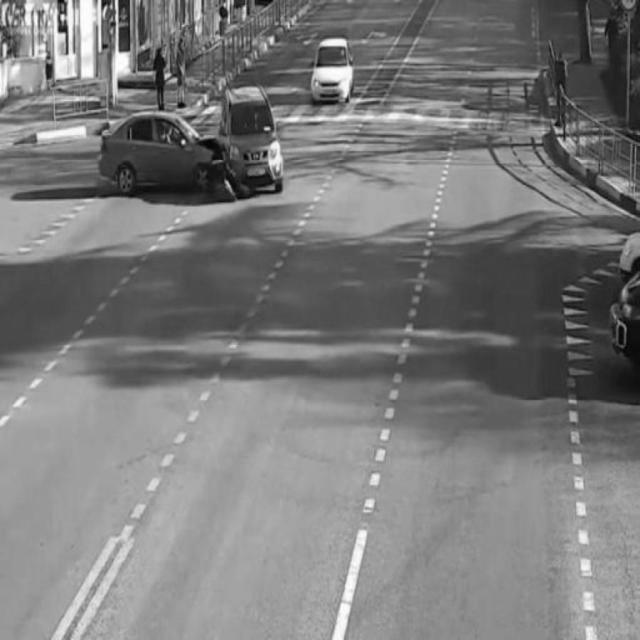accident: (102, 93, 282, 201)
vehicle: (307, 35, 355, 103)
